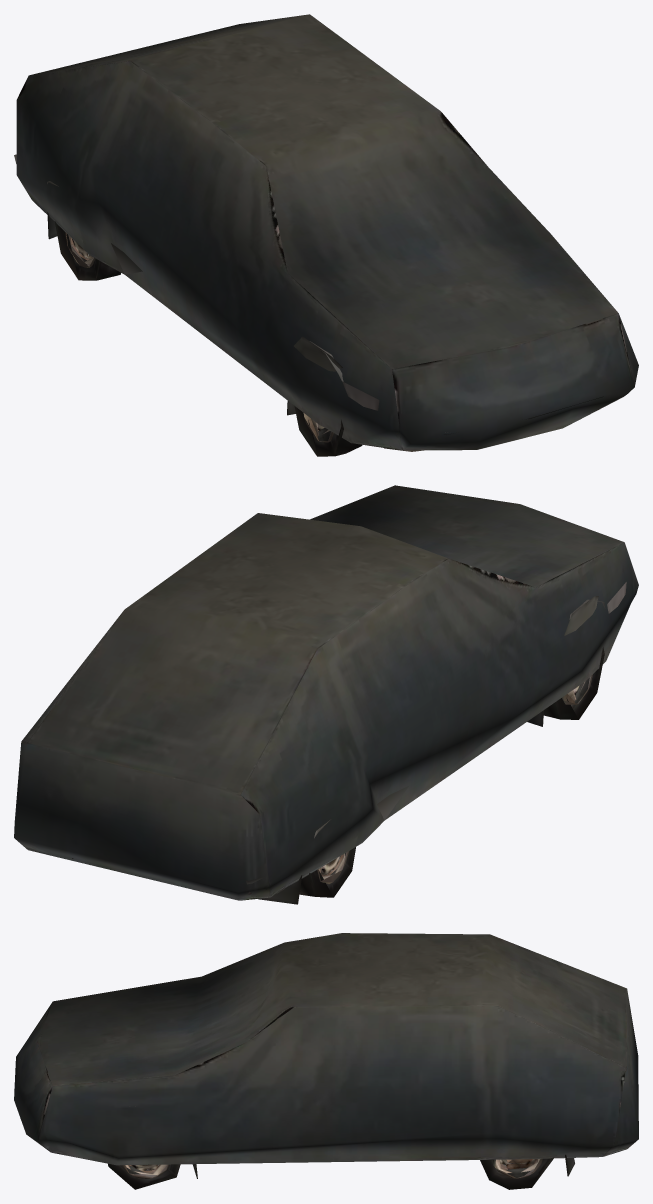
The model's file is covered_car.glb.
3 views of the same model, one above another, from view 1: azimuth 30°, elevation 25°; view 2: azimuth 150°, elevation 25°; view 3: azimuth 270°, elevation 25° (orthographic). The views are drawn at different scales.
Visible parts, largest first — view 1: covered_car_wheel_01; view 2: covered_car_wheel_01; view 3: covered_car_wheel_01.
Part boxes in pixels (x1,y1,x2,y2): covered_car_wheel_01: [14, 14, 638, 456]; covered_car_wheel_01: [14, 485, 638, 904]; covered_car_wheel_01: [14, 933, 638, 1189].
Size of the model in its own units: 1.79 by 1.36 by 4.34.
1 material, 1 textured.
